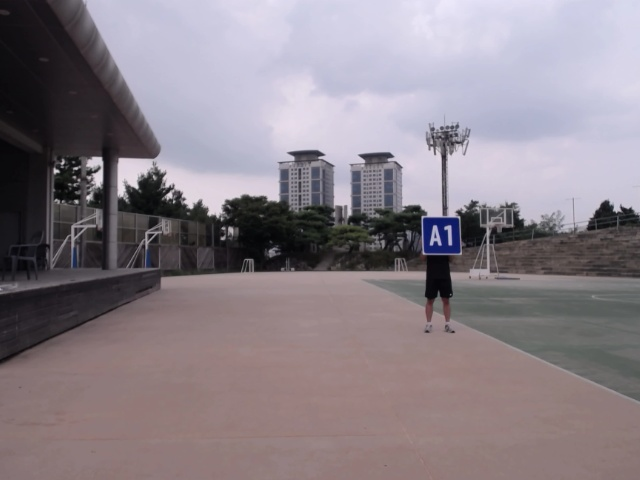delivery_a1: (423, 216, 462, 255)
